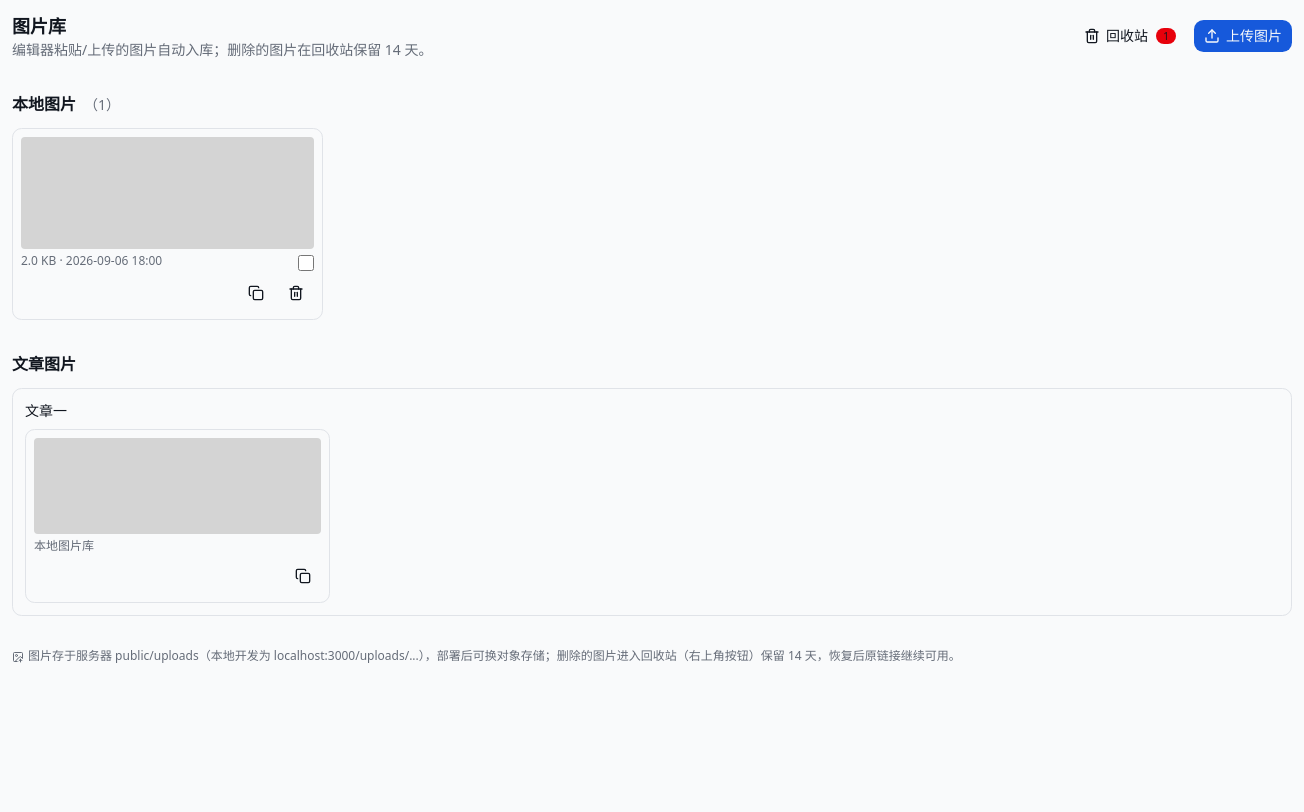
Test: ImageLibraryClient 多选与批量 › 批量删除本地图片：确认后 POST batch-delete 并刷新
This screenshot has width=1304, height=812.
Click the button with test id "select-a.png".
click(168, 224)  # box 12,128 -> 323,320
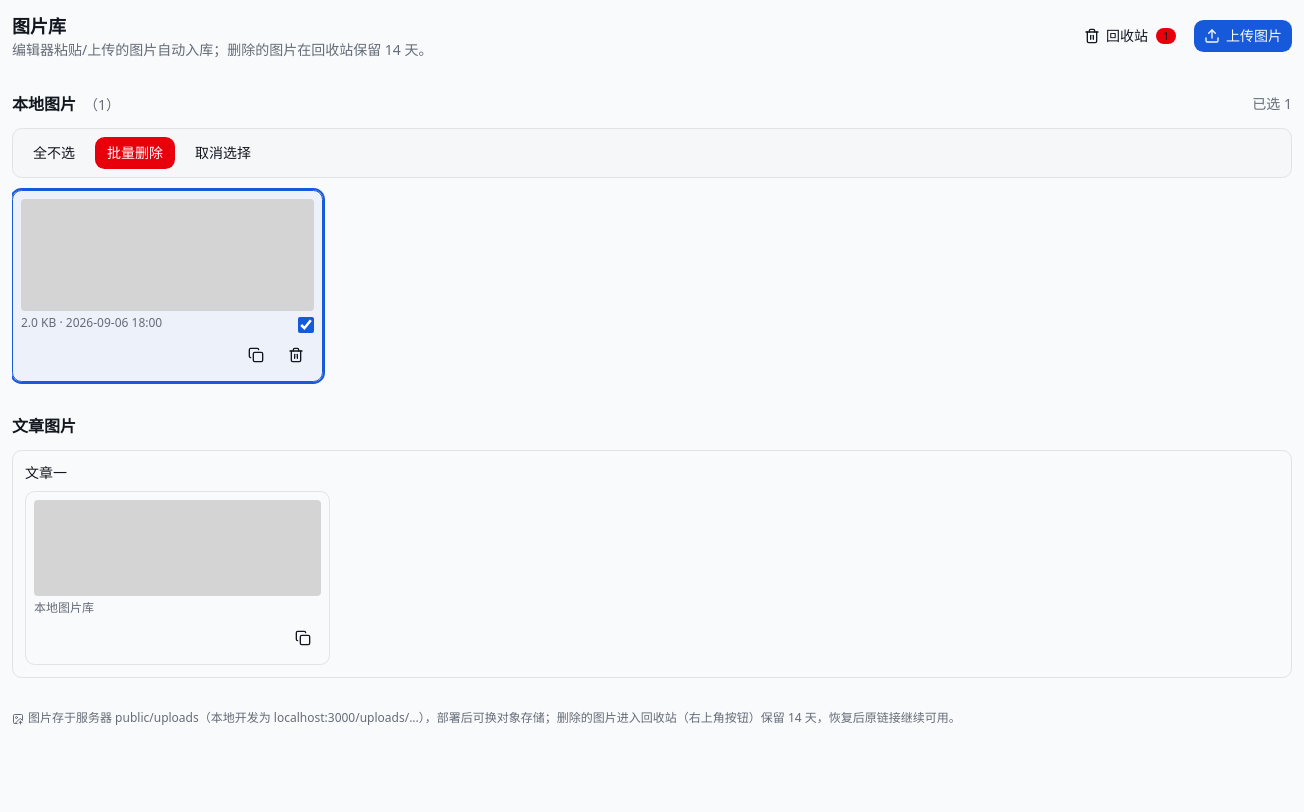
Click the button "批量删除".
click(135, 153)  # box 95,137 -> 175,169
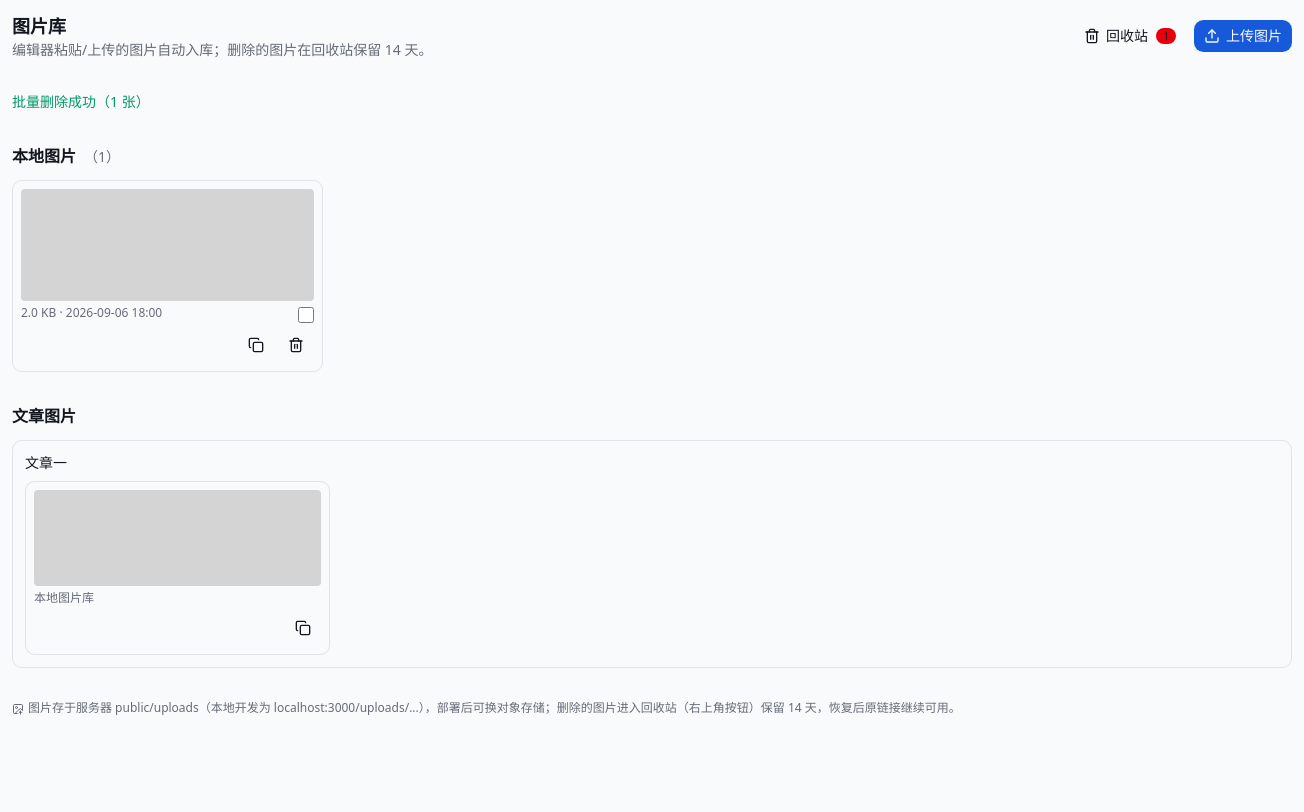
Expected: the text with test id "copy-hint" shows "批量删除成功", 12,92 -> 150,111
